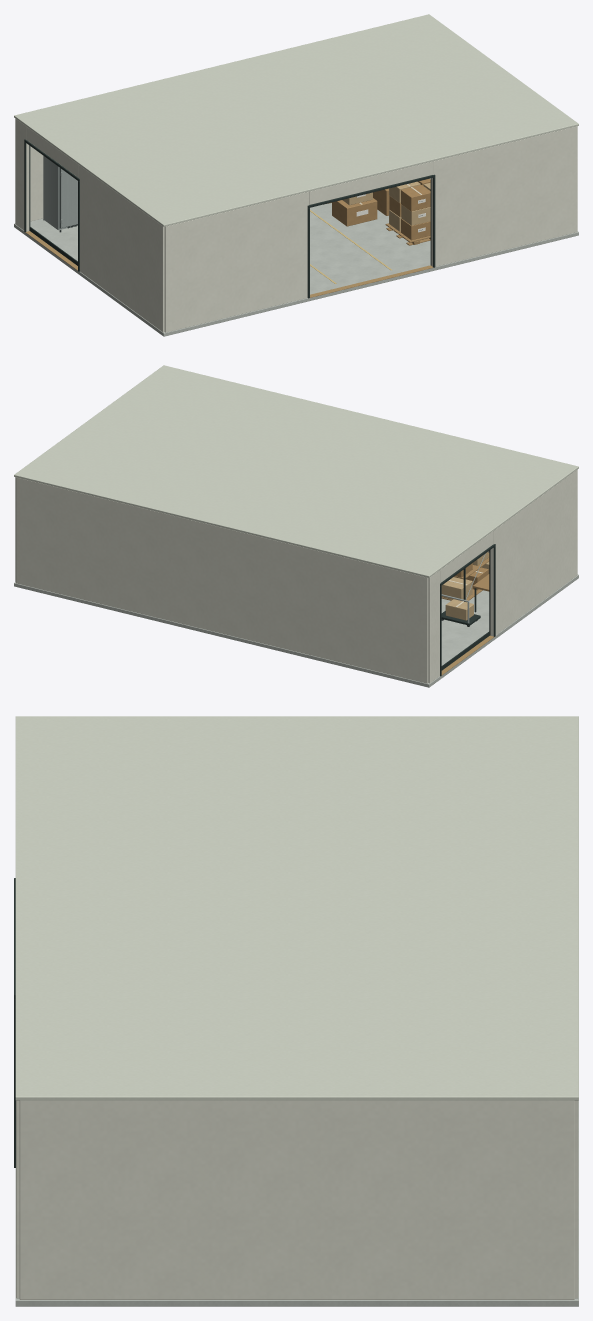
File: room.glb
3 renders of one model, top to bottom at view 1: azimuth 30°, elevation 25°; view 2: azimuth 150°, elevation 25°; view 3: azimuth 270°, elevation 25°, orthographic. The views are drawn at different scales.
Parts seen in each view (by area): view 1: Interior.Roof, Interior.SouthShell.Warm_plaster, Interior.WestShell.Warm_plaster, Interior.Floor.001, Interior.fridge-1.Brushed_stainless_steel, Interior.pallet-east.Kraft_cardboard, Interior.SouthShell.Dark_powder_coated_steel, Interior.WestShell.Dark_powder_coated_steel, Interior.Wall, Interior.Box.004, Interior.pallet-east.Pale_cardboard, Interior.DoorThreshold; view 2: Interior.Roof, Interior.Wall, Interior.WestShell.Warm_plaster, Interior.Floor.001, Interior.WestShell.Dark_powder_coated_steel, Interior.reserve-racks.Pale_cardboard, Interior.Box.010; view 3: Interior.Roof, Interior.Wall.005, Interior.Floor.001, Interior.Wall, Interior.SouthShell.Warm_plaster.
Boxes of the visible parts, x1,y1,x2,y2 form: Interior.Roof: (14, 14, 578, 226); Interior.SouthShell.Warm_plaster: (164, 126, 576, 332); Interior.WestShell.Warm_plaster: (15, 118, 164, 332); Interior.Floor.001: (14, 203, 578, 336); Interior.fridge-1.Brushed_stainless_steel: (43, 156, 77, 230); Interior.pallet-east.Kraft_cardboard: (389, 179, 430, 240); Interior.SouthShell.Dark_powder_coated_steel: (307, 174, 435, 298); Interior.WestShell.Dark_powder_coated_steel: (24, 139, 79, 271); Interior.Wall: (30, 146, 43, 221); Interior.Box.004: (332, 198, 377, 226); Interior.pallet-east.Pale_cardboard: (389, 181, 430, 231); Interior.DoorThreshold: (310, 265, 433, 297); Interior.Roof: (14, 365, 578, 577); Interior.Wall: (16, 477, 428, 683); Interior.WestShell.Warm_plaster: (428, 469, 577, 683); Interior.Floor.001: (14, 574, 578, 687); Interior.WestShell.Dark_powder_coated_steel: (440, 544, 495, 676); Interior.reserve-racks.Pale_cardboard: (441, 552, 489, 601); Interior.Box.010: (445, 599, 473, 620); Interior.Roof: (15, 716, 578, 1100); Interior.Wall.005: (19, 1100, 574, 1299); Interior.Floor.001: (15, 1100, 578, 1306); Interior.Wall: (574, 1100, 578, 1298); Interior.SouthShell.Warm_plaster: (16, 1100, 19, 1298).
Size of the model in its own units: 14.97 by 3.84 by 9.36.
Materials: 23 (15 with a texture image).
